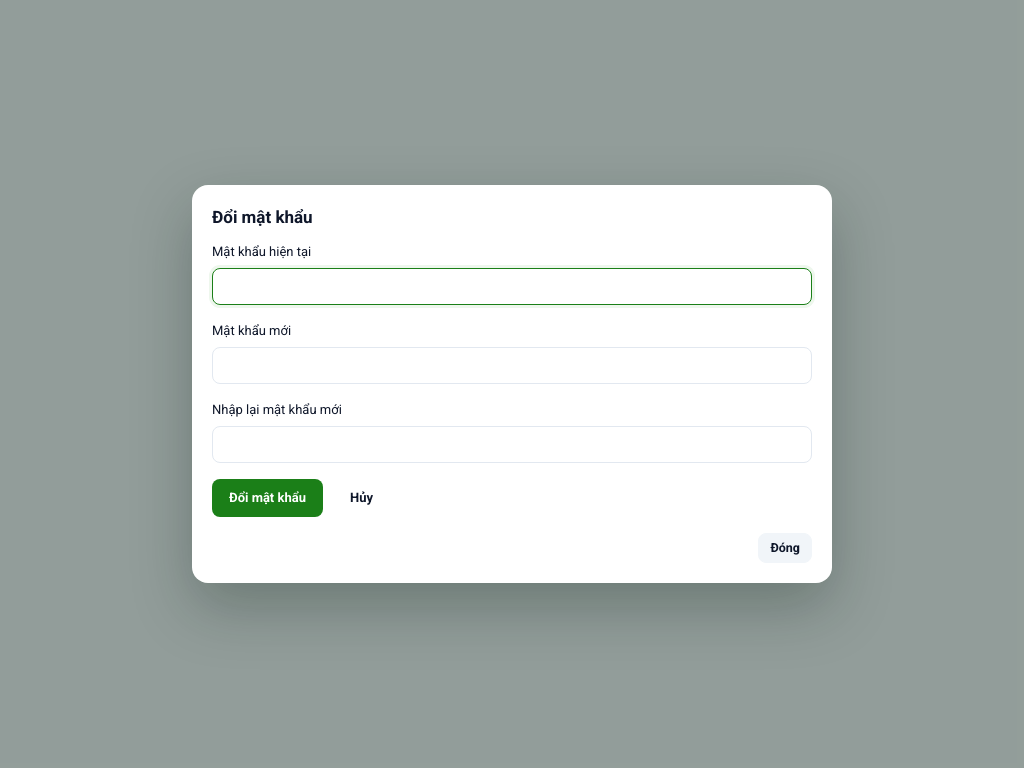
Test: [AC-N4] changes the password
The width and height of the screenshot is (1024, 768).
Type "matkhau-cu" into the password field labelled "Mật khẩu hiện tại" at (512, 286), box [212,268,812,305]
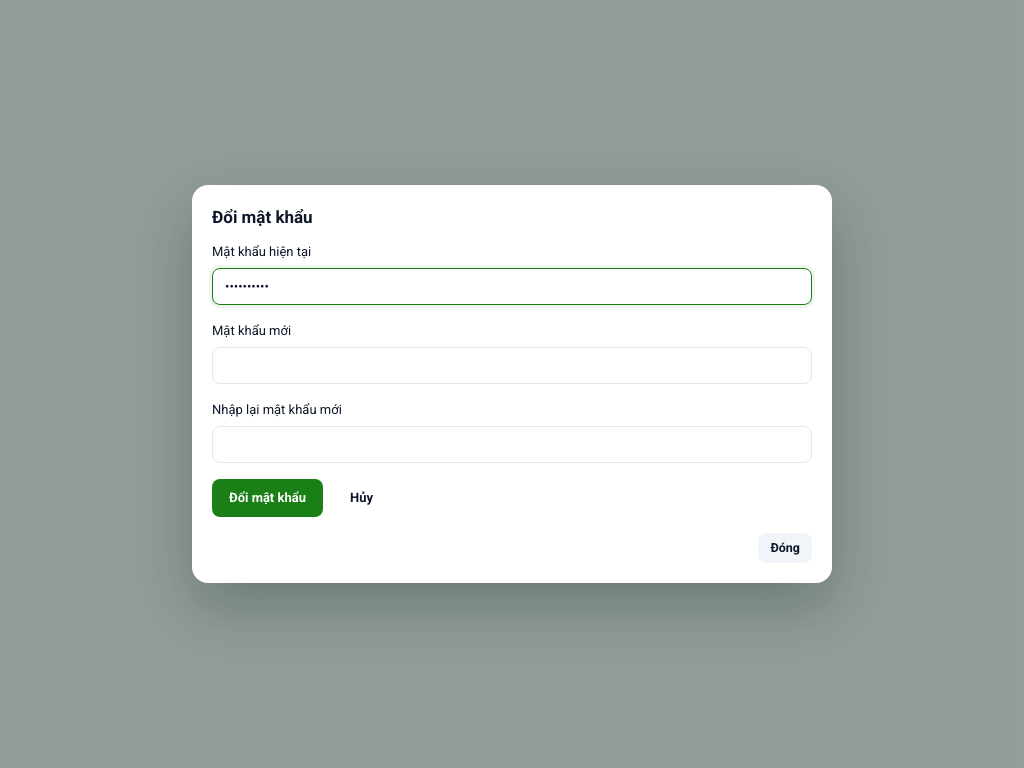
Type "matkhau1" into the password field labelled "Mật khẩu mới" at (512, 365), box [212,347,812,384]
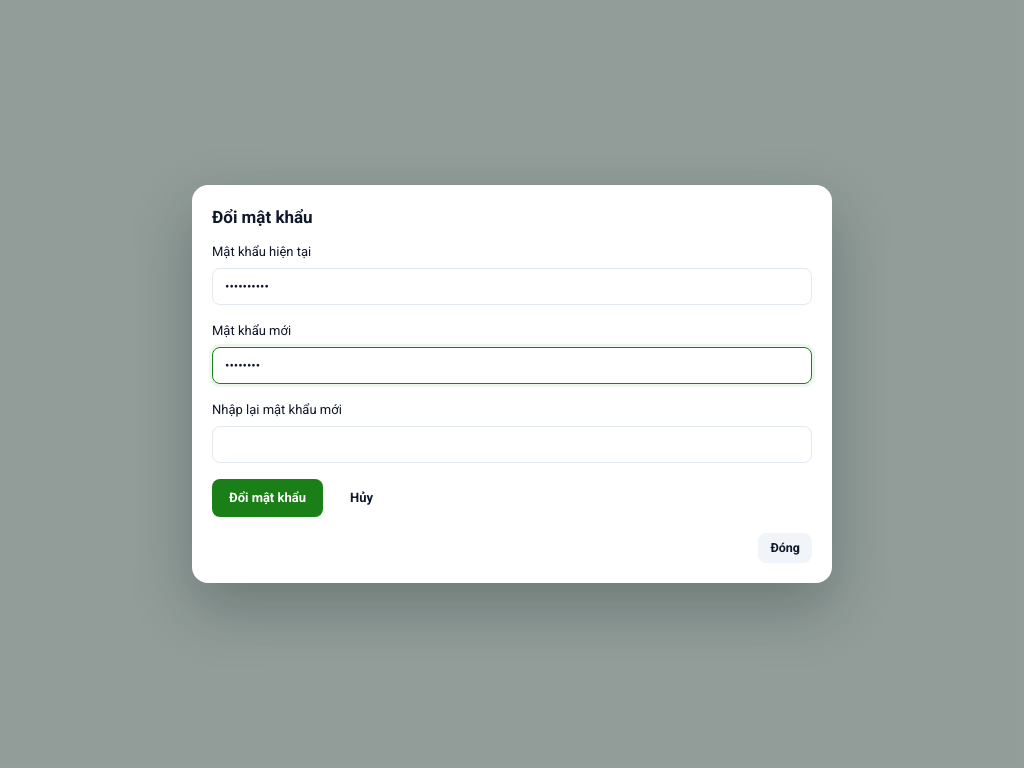
Type "matkhau1" into the password field labelled "Nhập lại mật khẩu mới" at (512, 444), box [212,426,812,463]
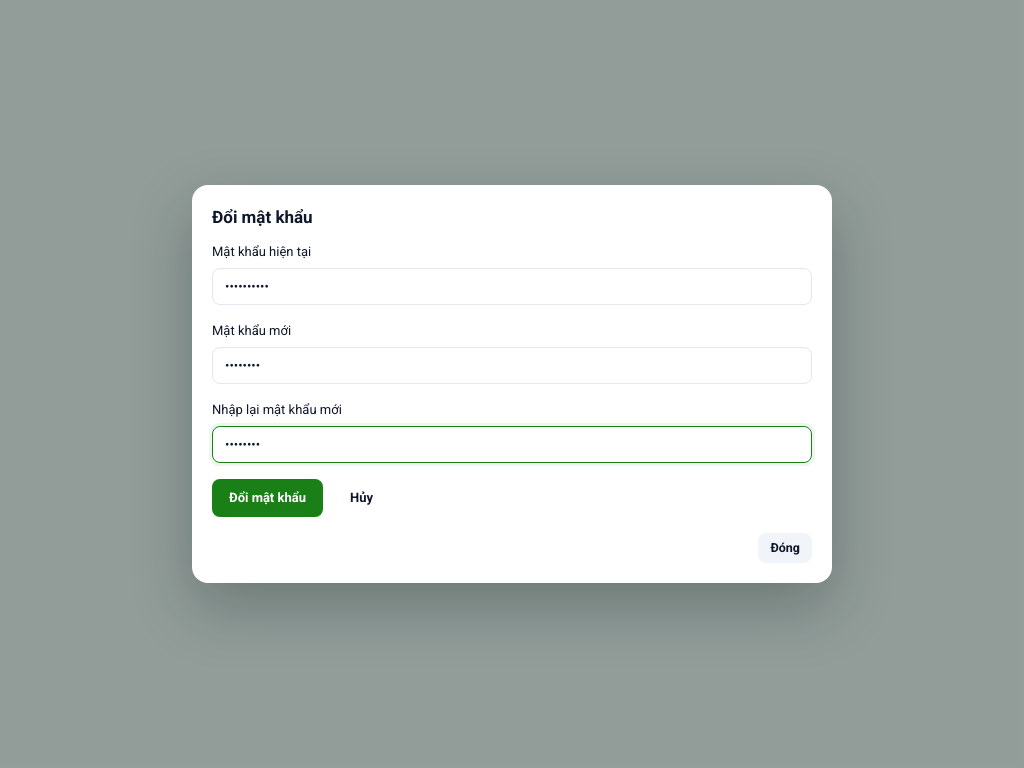
Click the button "Đổi mật khẩu" at (268, 498), box [212,479,323,517]
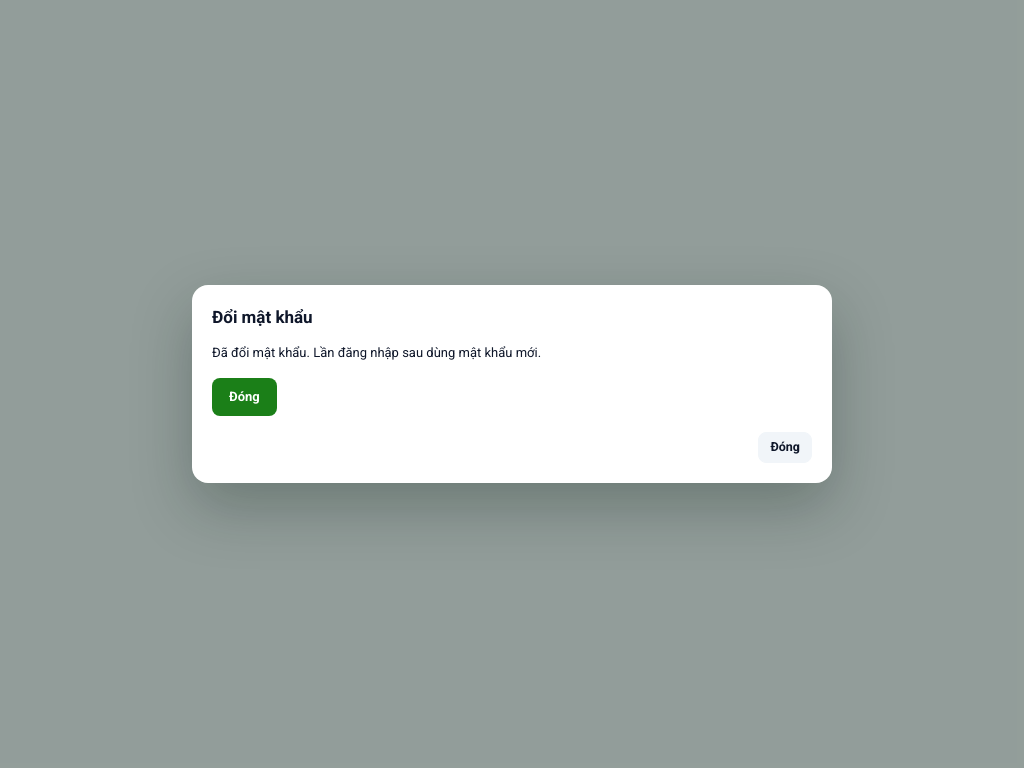
Now the message shows "Đã đổi mật khẩu", box [212,345,541,360]
